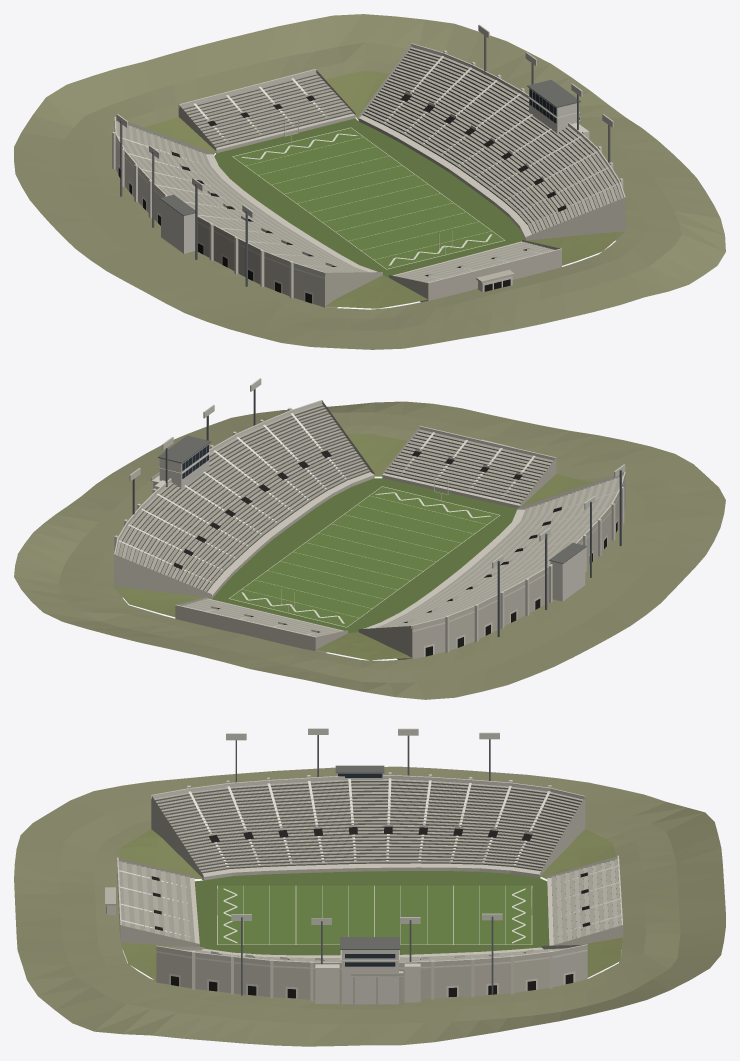
The model's file is war-memorial-stadium.glb.
3 renders of one model, top to bottom at view 1: azimuth 30°, elevation 25°; view 2: azimuth 150°, elevation 25°; view 3: azimuth 270°, elevation 25°, orthographic. The views are drawn at different scales.
Visible parts, largest first — view 1: war_bank2, war_seat2, war_seat, war_turf2, war_riser, war_wall, war_turf, war_bank, war_trim, war_walk, war_aisle, war_box (+5 smaller); view 2: war_bank2, war_seat2, war_seat, war_turf2, war_riser, war_wall, war_turf, war_bank, war_trim, war_walk, war_aisle, war_box (+5 smaller); view 3: war_bank2, war_riser, war_seat2, war_turf2, war_seat, war_wall, war_turf, war_trim, war_bank, war_walk, war_box, war_aisle (+6 smaller).
Boxes of the visible parts, x1,y1,x2,y2 form: war_bank2: [14, 14, 725, 349]; war_seat2: [118, 50, 620, 282]; war_seat: [116, 47, 623, 282]; war_turf2: [233, 128, 503, 268]; war_riser: [183, 48, 621, 234]; war_wall: [114, 44, 625, 308]; war_turf: [214, 118, 525, 277]; war_bank: [144, 70, 624, 308]; war_trim: [112, 43, 625, 303]; war_walk: [206, 113, 531, 275]; war_aisle: [118, 56, 618, 278]; war_box: [161, 88, 576, 253]; war_bank2: [14, 401, 725, 699]; war_seat2: [118, 406, 619, 636]; war_seat: [116, 404, 622, 636]; war_turf2: [229, 486, 499, 626]; war_riser: [118, 405, 552, 591]; war_wall: [114, 401, 625, 659]; war_turf: [212, 478, 517, 632]; war_bank: [114, 434, 592, 660]; war_trim: [114, 400, 625, 656]; war_walk: [207, 472, 524, 631]; war_aisle: [119, 413, 617, 634]; war_box: [159, 444, 585, 601]; war_bank2: [14, 766, 725, 1046]; war_riser: [155, 780, 618, 937]; war_seat2: [118, 782, 621, 962]; war_turf2: [217, 885, 531, 944]; war_seat: [122, 779, 618, 962]; war_wall: [105, 778, 623, 1007]; war_turf: [194, 871, 549, 955]; war_trim: [106, 772, 622, 1004]; war_bank: [119, 829, 622, 980]; war_walk: [190, 863, 553, 957]; war_box: [336, 773, 398, 1004]; war_aisle: [119, 778, 620, 936].
Size of the model in its own units: 227 by 36.74 by 248.
